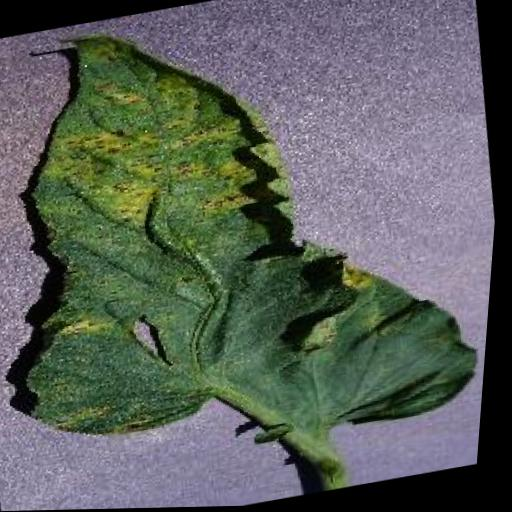Septoria: (0, 0, 509, 484)
